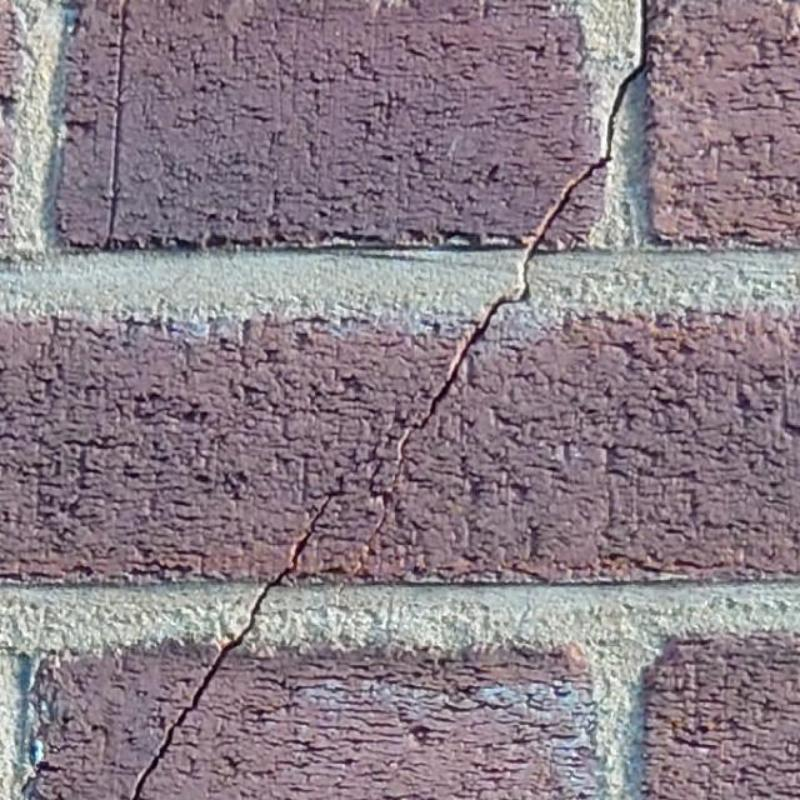pothole: (398, 52, 645, 468), (128, 494, 332, 799)
